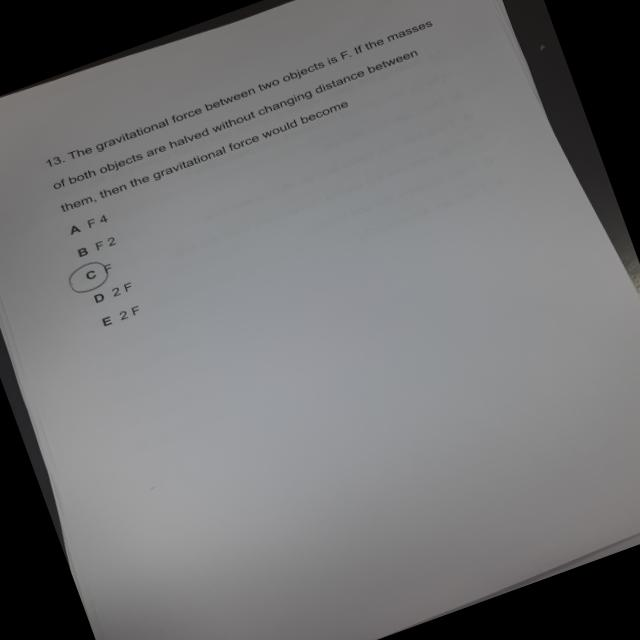C: (61, 257, 116, 299)
